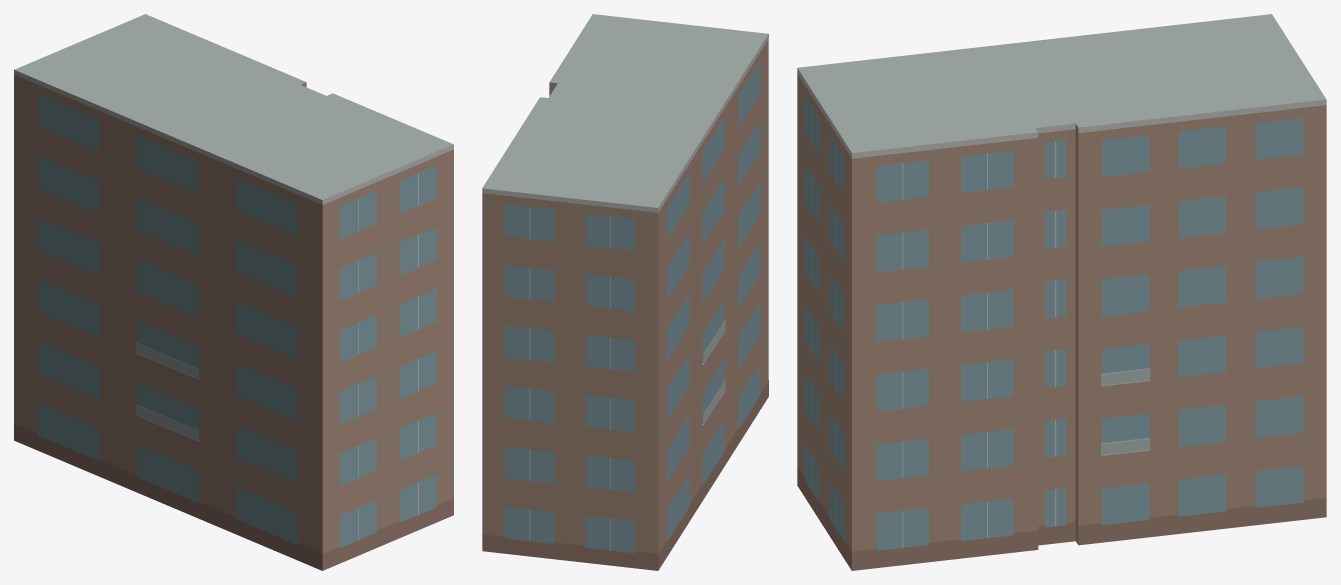
File: survey-upis-32990821.glb
The picture shows the model from 3 angles, left to right: view 1: azimuth 30°, elevation 25°; view 2: azimuth 150°, elevation 25°; view 3: azimuth 270°, elevation 25°; orthographic projection. The views are drawn at different scales.
Visible parts, largest first — view 1: survey-upis-32990821.tmp; view 2: survey-upis-32990821.tmp; view 3: survey-upis-32990821.tmp.
Boxes of the visible parts, x1,y1,x2,y2 form: survey-upis-32990821.tmp: (14, 14, 453, 570); survey-upis-32990821.tmp: (482, 14, 768, 570); survey-upis-32990821.tmp: (797, 14, 1326, 570).
Bounding box in the file's own units: 13.1 × 18.3 × 21.03.
